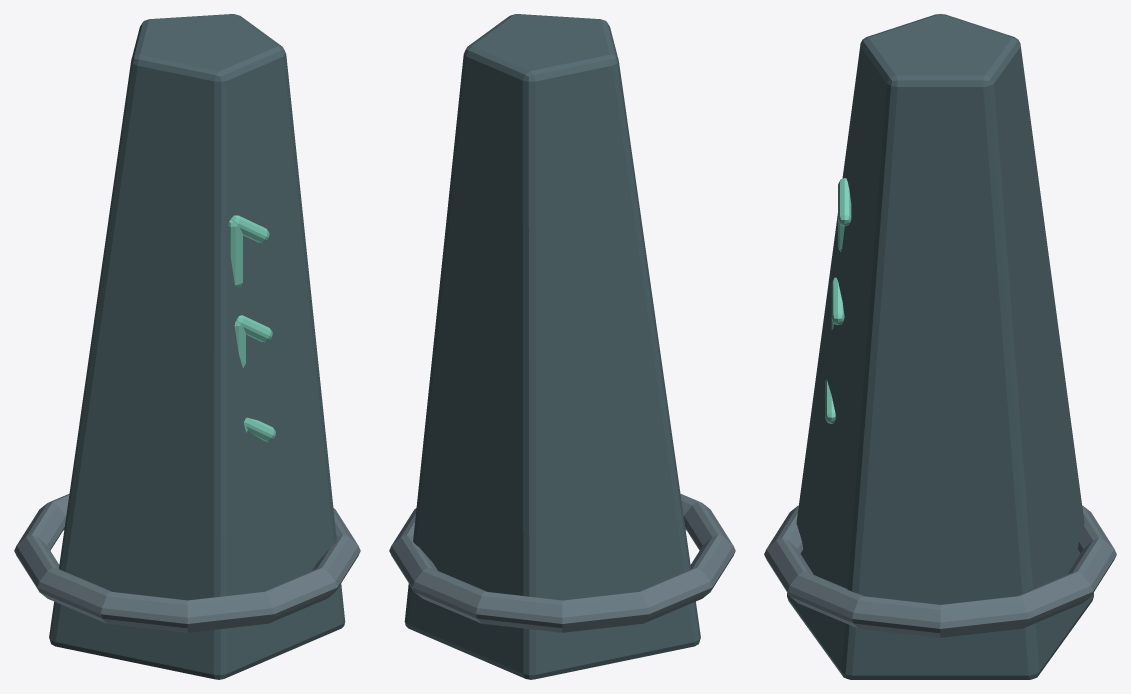
File: waystone.glb
3 renders of one model, left to right at view 1: azimuth 30°, elevation 25°; view 2: azimuth 150°, elevation 25°; view 3: azimuth 270°, elevation 25°, orthographic.
Visible parts, largest first — view 1: StandingStone.001, StoneCollar.001, InlaidRune.001; view 2: StandingStone.001, StoneCollar.001; view 3: StandingStone.001, StoneCollar.001, InlaidRune.001.
Part boxes in pixels (left/top/right/bottom): StandingStone.001: left=49, top=14, right=345, bottom=679; StoneCollar.001: left=14, top=494, right=360, bottom=632; InlaidRune.001: left=228, top=215, right=275, bottom=441; StandingStone.001: left=404, top=14, right=700, bottom=679; StoneCollar.001: left=389, top=494, right=735, bottom=632; StandingStone.001: left=787, top=14, right=1093, bottom=679; StoneCollar.001: left=764, top=505, right=1116, bottom=637; InlaidRune.001: left=825, top=178, right=851, bottom=423.
Bounding box in the file's own units: 1.07 × 1.97 × 1.07.
